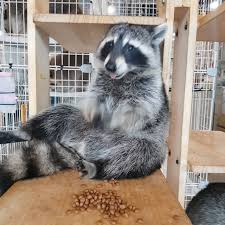raccoon: (17, 16, 177, 186)
